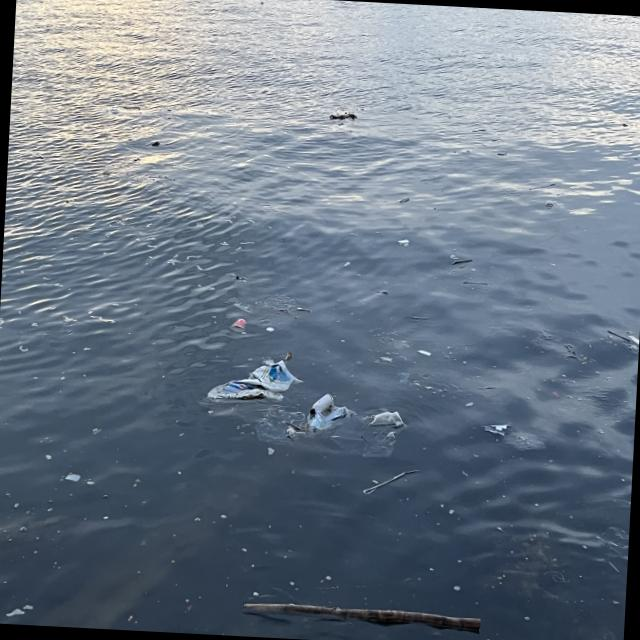foam: (398, 238, 409, 248), (629, 335, 639, 345), (418, 350, 431, 356)
plastic: (308, 392, 334, 414)
plastic bottle: (254, 401, 408, 456), (207, 356, 301, 404), (234, 294, 312, 324), (482, 423, 547, 452), (532, 330, 582, 362), (64, 473, 80, 482), (400, 372, 410, 385)
unknow: (230, 317, 247, 332)
